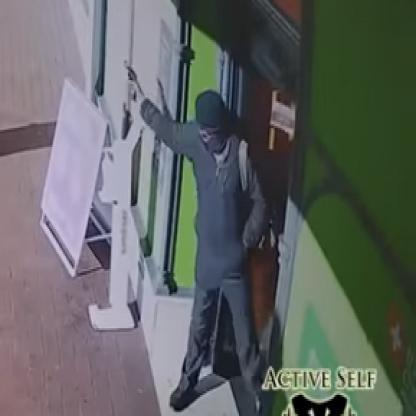criminal: (121, 54, 277, 416)
weapon: (121, 55, 140, 102)
